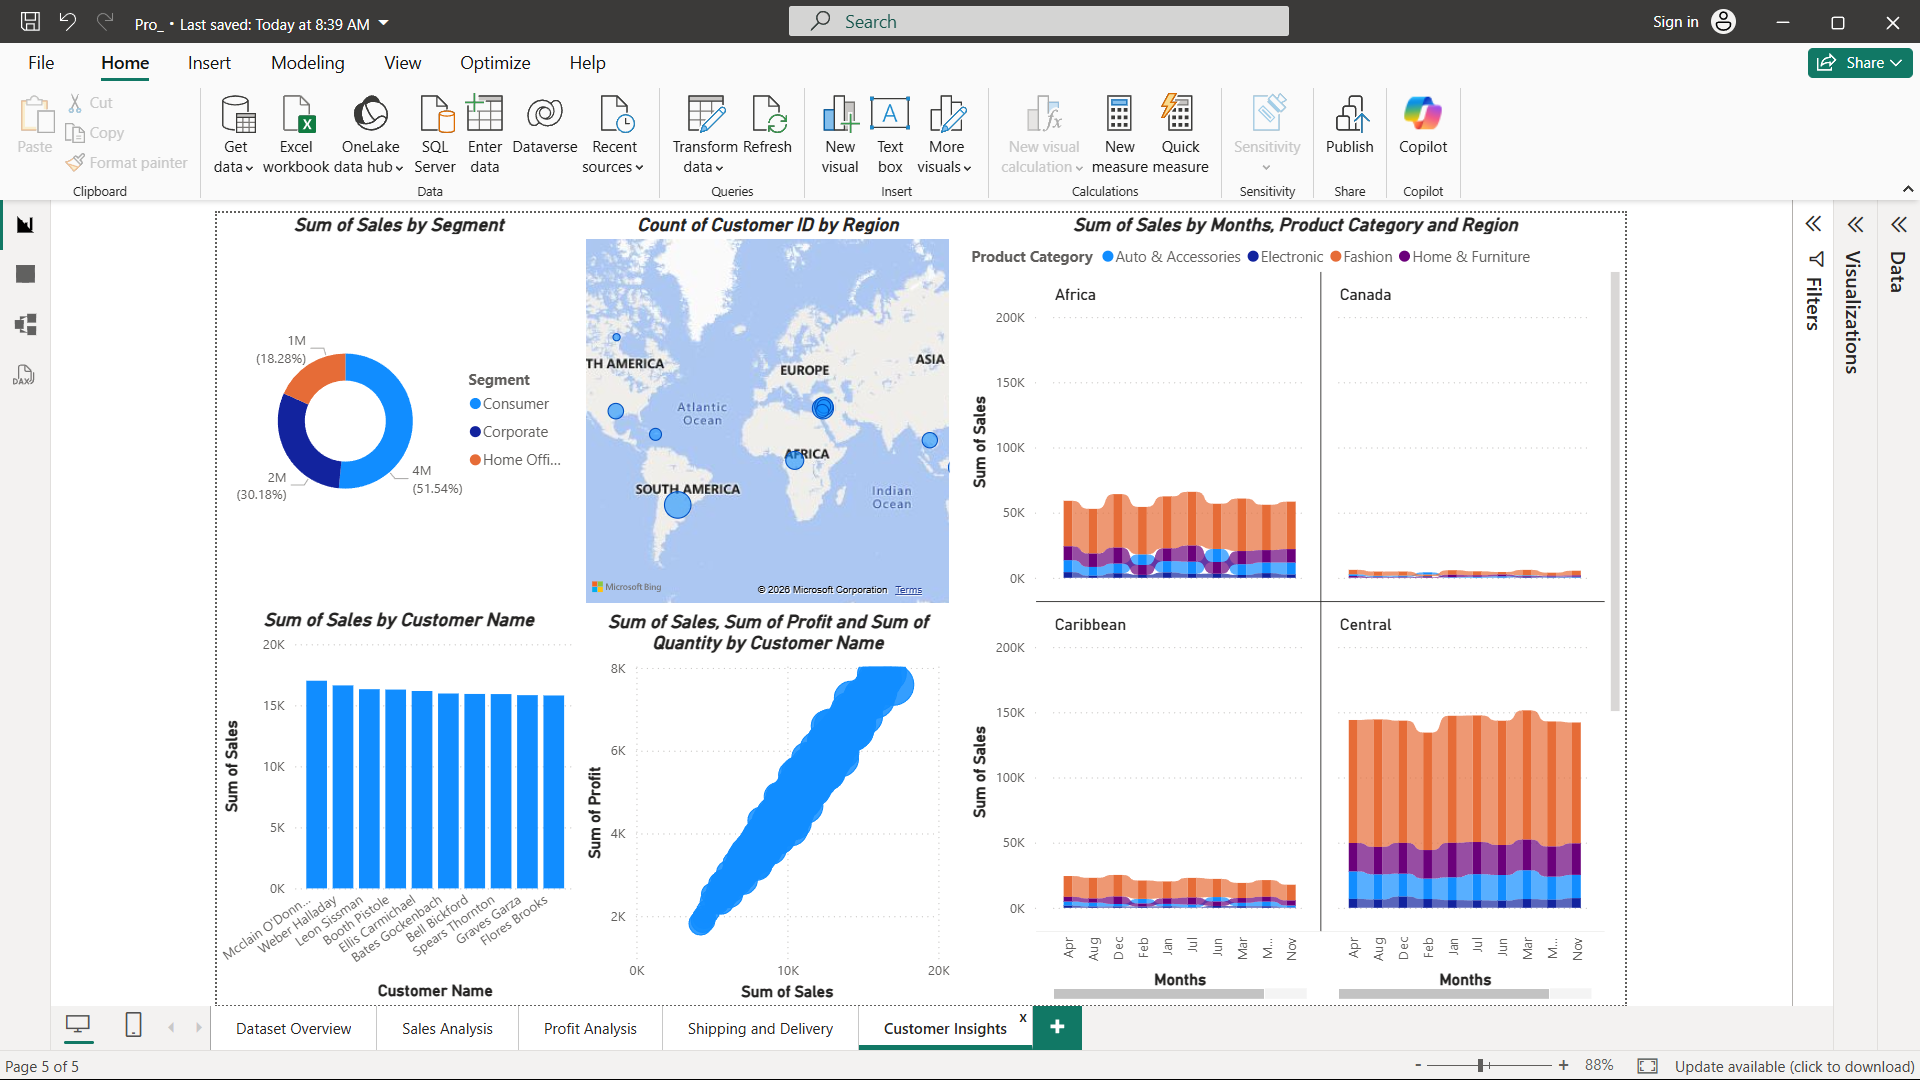

The dashboard page shown, as its layout file describes it:
{"tool":"powerbi","page":{"name":"Customer Insights","canvas":[1280,720],"ordinal":4},"visuals":[{"type":"donutChart","fields":{"Category":["Sheet1.Segment"],"Y":["Sum(Sheet1.Sales)"]},"box":[0,0,330.7,359.5],"z":0},{"type":"columnChart","fields":{"Category":["Sheet1.Customer Name"],"Y":["Sum(Sheet1.Sales)"]},"box":[0,359.5,330.7,360.9],"z":1000},{"type":"map","fields":{"Size":["Count(Sheet1.Customer ID)"],"Category":["Sheet1.Region"]},"box":[330.7,0,340.3,359.5],"z":2000},{"type":"scatterChart","fields":{"X":["Sum(Sheet1.Sales)"],"Y":["Sum(Sheet1.Profit)"],"Category":["Sheet1.Customer Name"],"Size":["Sum(Sheet1.Quantity)"]},"box":[330.7,360.9,340.3,359.5],"z":3000},{"type":"ribbonChart","fields":{"Category":["Sheet1.Months"],"Series":["Sheet1.Product Category"],"Y":["Sum(Sheet1.Sales)"],"Rows":["Sheet1.Region"]},"box":[680.6,0,599.7,720.4],"z":4000}]}

Visuals, with their boxes on the page's 1280x720 design canvas (x1, y1, x2, y2). These are canvas units, not pixel positions in the 1920x1080 screenshot, which may show the page scaled, cropped or inside an application window:
donutChart - Sheet1.Segment x Sum(Sheet1.Sales): {"left": 0, "top": 0, "right": 331, "bottom": 360}
columnChart - Sheet1.Customer Name x Sum(Sheet1.Sales): {"left": 0, "top": 360, "right": 331, "bottom": 720}
map - Count(Sheet1.Customer ID) x Sheet1.Region: {"left": 331, "top": 0, "right": 671, "bottom": 360}
scatterChart - Sum(Sheet1.Sales) x Sum(Sheet1.Profit): {"left": 331, "top": 361, "right": 671, "bottom": 720}
ribbonChart - Sheet1.Months x Sheet1.Product Category: {"left": 681, "top": 0, "right": 1280, "bottom": 720}
